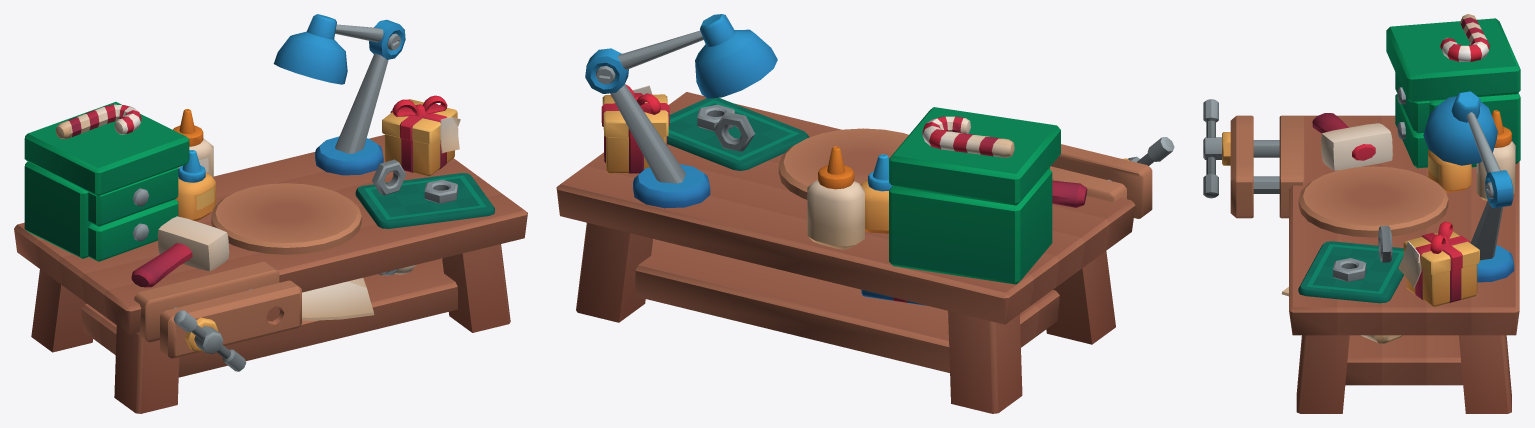
File: Toy_Workbench_decorated.obj
The picture shows the model from 3 angles, left to right: view 1: azimuth 30°, elevation 25°; view 2: azimuth 150°, elevation 25°; view 3: azimuth 270°, elevation 25°; orthographic projection. The views are drawn at different scales.
Visible parts, largest first — view 1: Toy_Workbench_decorated; view 2: Toy_Workbench_decorated; view 3: Toy_Workbench_decorated.
Boxes of the visible parts, left/top/right/bottom form: Toy_Workbench_decorated: left=14, top=14, right=527, bottom=413; Toy_Workbench_decorated: left=556, top=14, right=1174, bottom=413; Toy_Workbench_decorated: left=1203, top=14, right=1520, bottom=413.
Bounding box in the file's own units: 3 × 1.93 × 2.06.
1 material, 1 textured.
